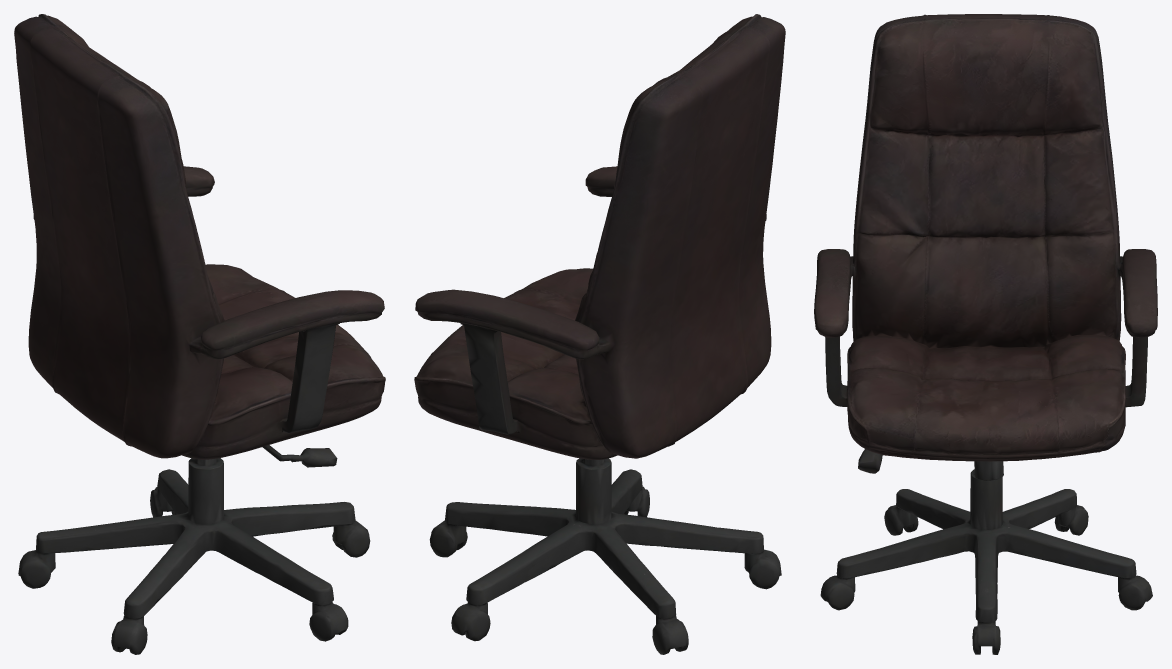
File: judge-chair.glb
3 views of the same model, side by side, from view 1: azimuth 30°, elevation 25°; view 2: azimuth 150°, elevation 25°; view 3: azimuth 270°, elevation 25° (orthographic). The views are drawn at different scales.
Visible parts, largest first — view 1: tripo_node_01a2180b-2700-7a11-a5fe-5fc431b839d5; view 2: tripo_node_01a2180b-2700-7a11-a5fe-5fc431b839d5; view 3: tripo_node_01a2180b-2700-7a11-a5fe-5fc431b839d5.
Part boxes in pixels (left/top/right/bottom): tripo_node_01a2180b-2700-7a11-a5fe-5fc431b839d5: left=14, top=14, right=385, bottom=654; tripo_node_01a2180b-2700-7a11-a5fe-5fc431b839d5: left=414, top=14, right=785, bottom=654; tripo_node_01a2180b-2700-7a11-a5fe-5fc431b839d5: left=814, top=14, right=1157, bottom=654.
Bounding box in the file's own units: 0.5595 × 1 × 0.6025.
1 material, 1 textured.
